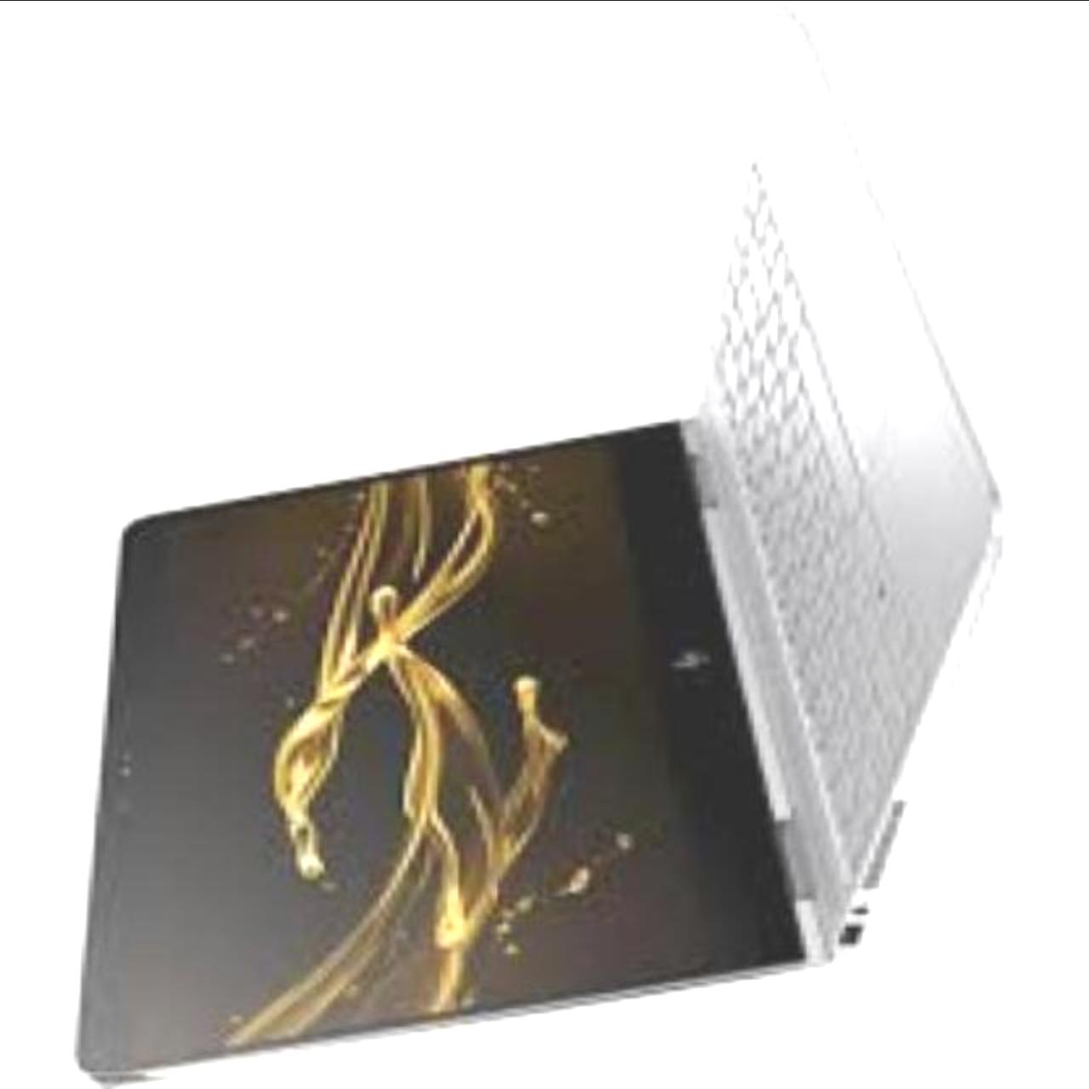laptop: (46, 12, 1033, 1084)
